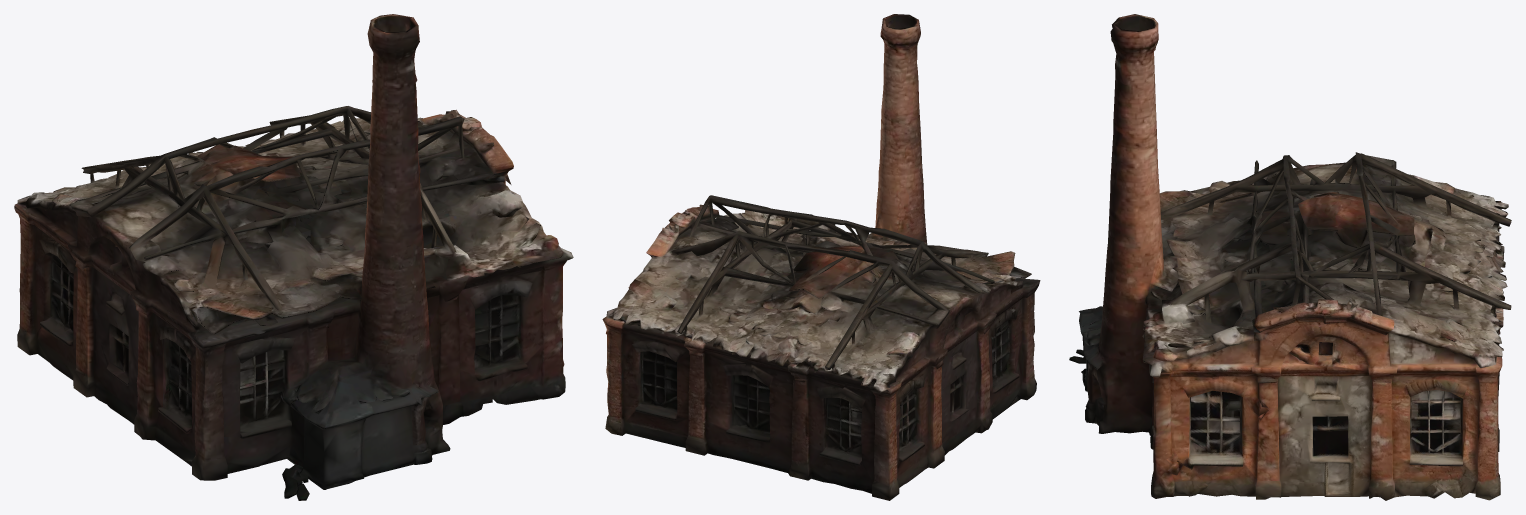
Rendered from bg_factory.glb.
The picture shows the model from 3 angles, left to right: view 1: azimuth 30°, elevation 25°; view 2: azimuth 150°, elevation 25°; view 3: azimuth 270°, elevation 25°; orthographic projection. The views are drawn at different scales.
Parts seen in each view (by area): view 1: tripo_node_f2dcf917-4e8f-41c1-b657-dc3de53bd5ea; view 2: tripo_node_f2dcf917-4e8f-41c1-b657-dc3de53bd5ea; view 3: tripo_node_f2dcf917-4e8f-41c1-b657-dc3de53bd5ea.
Boxes of the visible parts, x1,y1,x2,y2 form: tripo_node_f2dcf917-4e8f-41c1-b657-dc3de53bd5ea: [14, 14, 573, 500]; tripo_node_f2dcf917-4e8f-41c1-b657-dc3de53bd5ea: [602, 14, 1040, 500]; tripo_node_f2dcf917-4e8f-41c1-b657-dc3de53bd5ea: [1069, 14, 1511, 500].
Size of the model in its own units: 0.9176 by 0.9855 by 1.
Materials: 1 (1 with a texture image).
